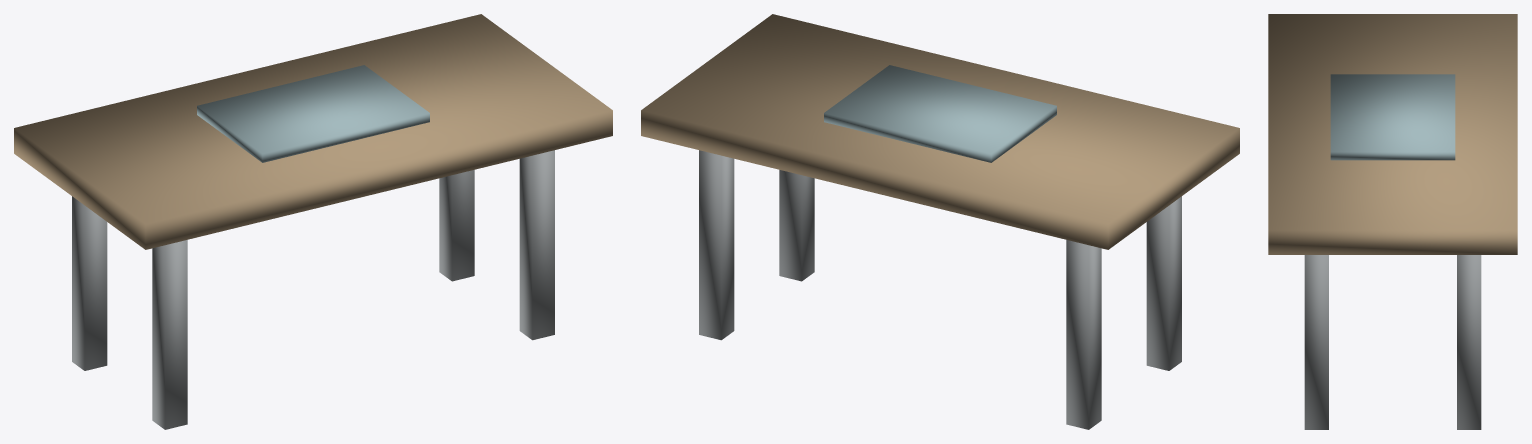
Rendered from material_inspection_table__squat.glb.
3 views of the same model, side by side, from view 1: azimuth 30°, elevation 25°; view 2: azimuth 150°, elevation 25°; view 3: azimuth 270°, elevation 25° (orthographic). The views are drawn at different scales.
Parts seen in each view (by area): view 1: world; view 2: world; view 3: world.
Boxes of the visible parts, left/top/right/bottom form: world: left=14, top=14, right=612, bottom=429; world: left=641, top=14, right=1239, bottom=429; world: left=1268, top=14, right=1517, bottom=429.
Size of the model in its own units: 1.6 by 0.7791 by 0.7776.
